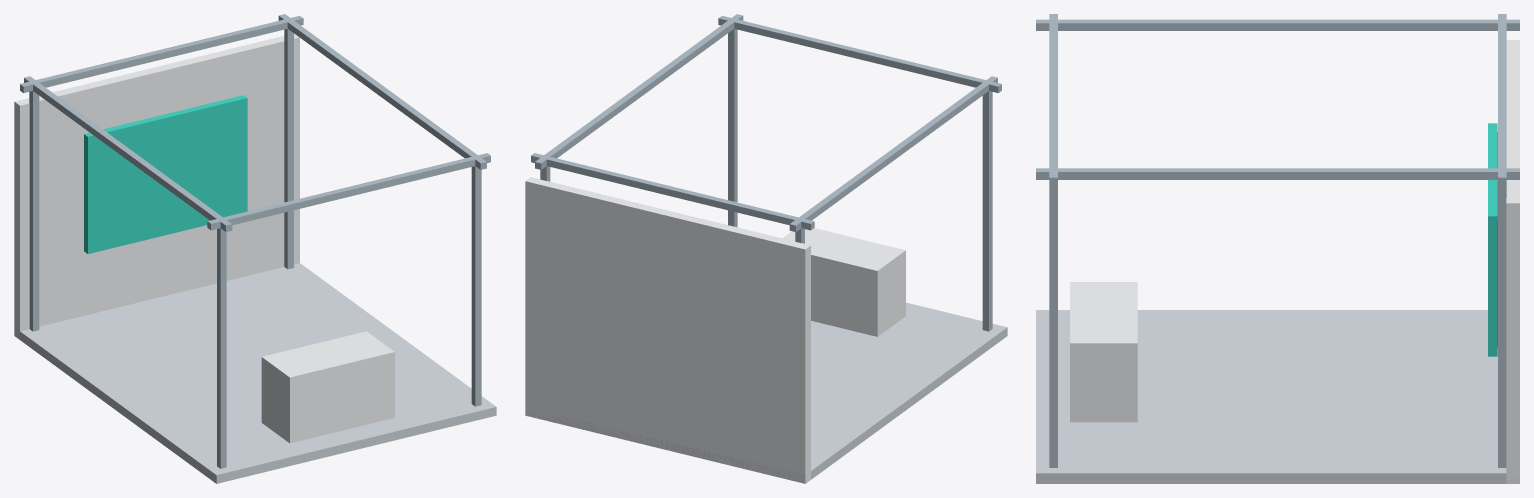
3 views of the same model, side by side, from view 1: azimuth 30°, elevation 25°; view 2: azimuth 150°, elevation 25°; view 3: azimuth 270°, elevation 25° (orthographic). The views are drawn at different scales.
Parts seen in each view (by area): view 1: Exhibition Booth Concept; view 2: Exhibition Booth Concept; view 3: Exhibition Booth Concept.
Part boxes in pixels (x1,y1,x2,y2): Exhibition Booth Concept: [14, 14, 496, 483]; Exhibition Booth Concept: [525, 14, 1007, 483]; Exhibition Booth Concept: [1036, 14, 1519, 483].
Bounding box in the file's own units: 4 × 3.49 × 5.
